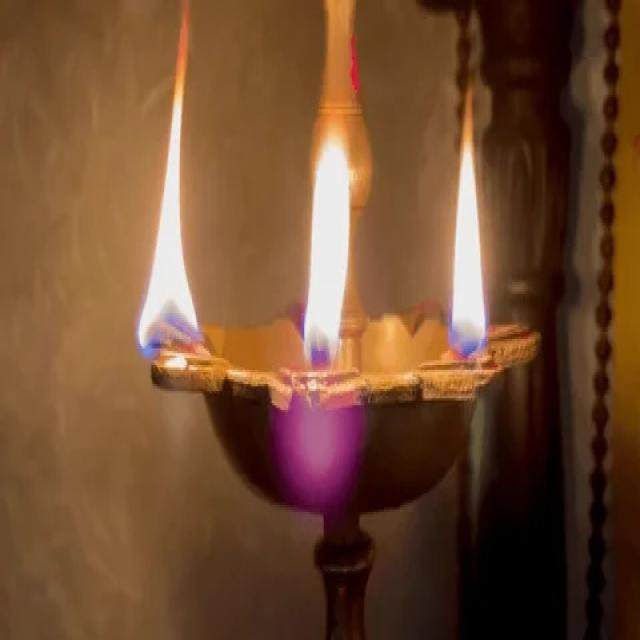fire: (138, 0, 198, 354), (303, 115, 350, 368), (449, 82, 486, 359)
